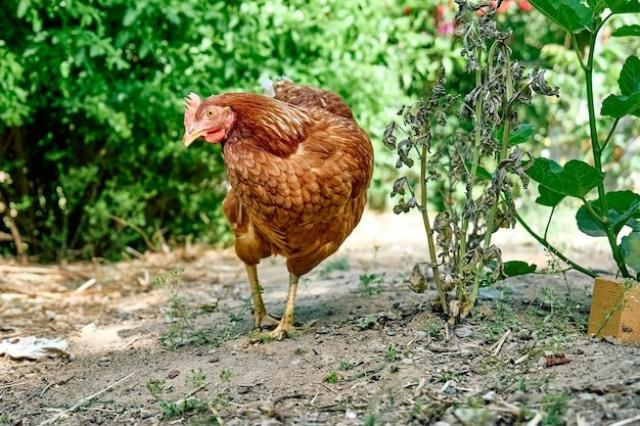Chicken: (182, 79, 374, 337)
